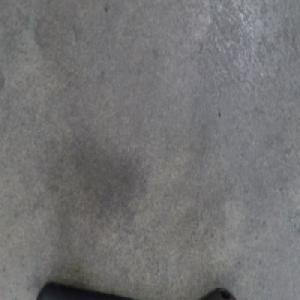AdjustableWrench: (38, 274, 236, 300)
